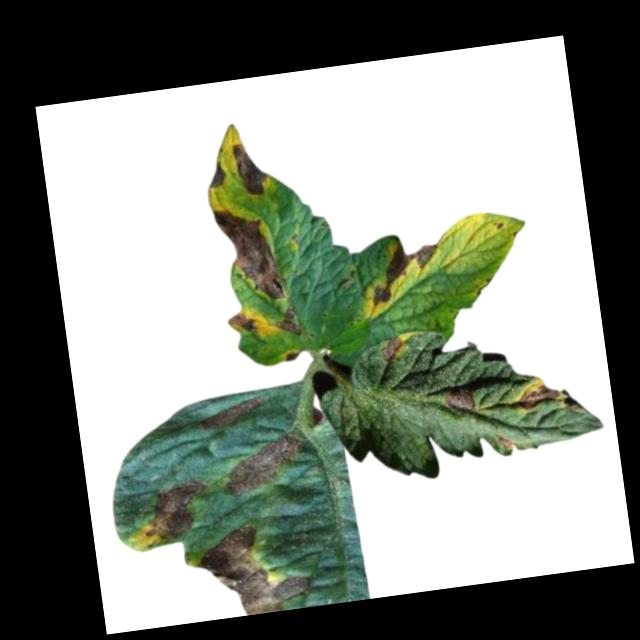Early_blight: (190, 520, 312, 620), (209, 204, 285, 308), (215, 432, 307, 499), (364, 235, 444, 308), (142, 477, 213, 546), (195, 394, 269, 434), (231, 140, 270, 201), (513, 378, 562, 416), (441, 385, 477, 416), (375, 335, 406, 366), (274, 306, 303, 339), (226, 312, 256, 338), (205, 160, 228, 189), (494, 434, 515, 453), (285, 350, 300, 365)
